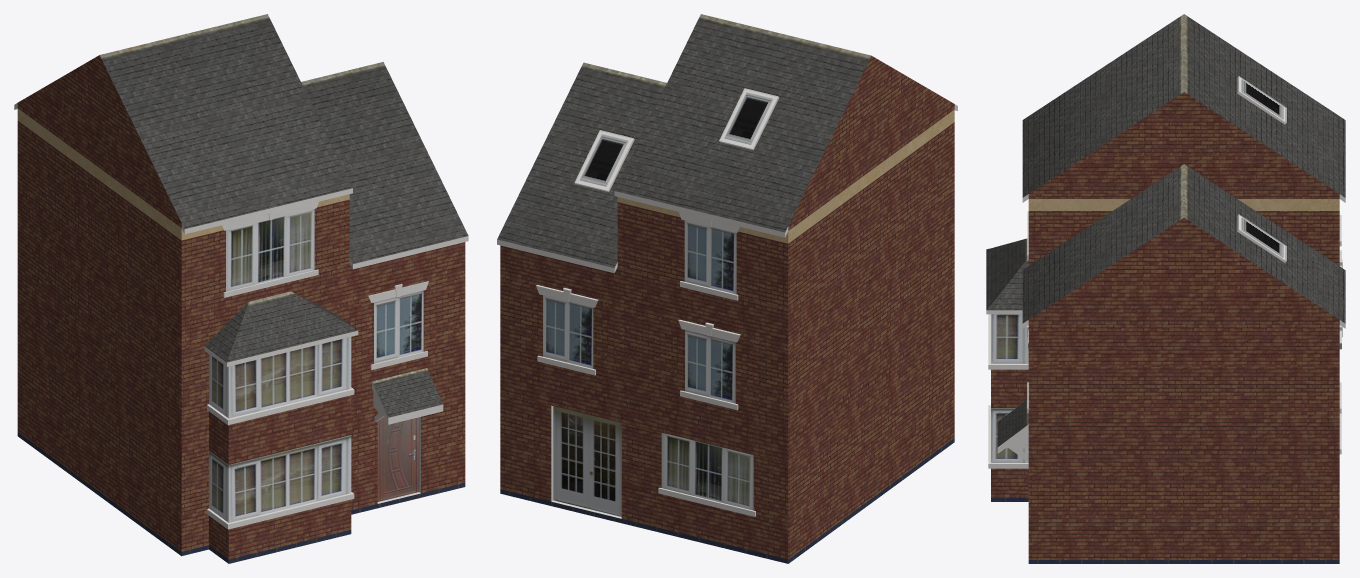
Rendered from modernterrace3story2b.FBX.
3 renders of one model, left to right at view 1: azimuth 30°, elevation 25°; view 2: azimuth 150°, elevation 25°; view 3: azimuth 270°, elevation 25°, orthographic. The views are drawn at different scales.
Visible parts, largest first — view 1: Box001; view 2: Box001; view 3: Box001.
Part boxes in pixels (x1,y1,x2,y2): Box001: [14, 14, 468, 563]; Box001: [497, 14, 957, 563]; Box001: [986, 14, 1345, 563].
Size of the model in its own units: 800 by 1188 by 925.
